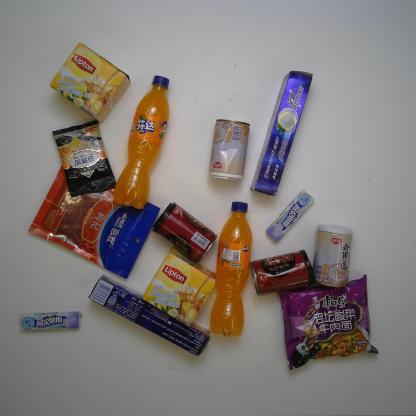Candy: (266, 190, 314, 244), (20, 311, 82, 331)
Canned Food: (152, 201, 218, 264), (249, 248, 315, 297), (208, 118, 251, 181), (314, 222, 354, 288)
Dried Fruit: (28, 164, 162, 279)
Drink: (112, 75, 172, 209), (209, 200, 253, 337)
Instant Drink: (48, 42, 131, 124), (141, 246, 219, 329), (52, 119, 116, 198)
Instant Noodles: (278, 274, 380, 372)
Personal Hygiene: (89, 274, 211, 358), (250, 69, 313, 196)
